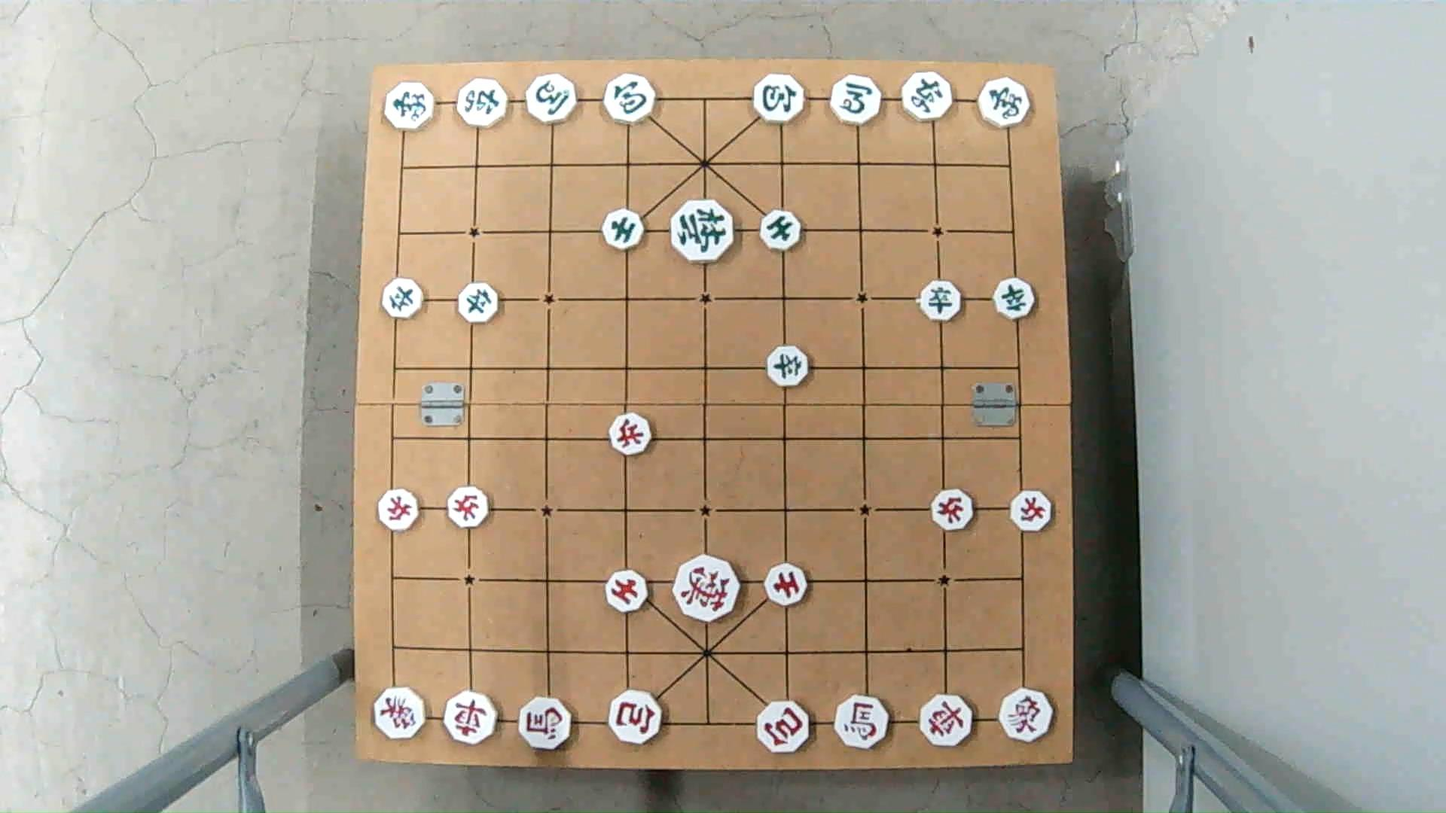cha_green: (455, 79, 511, 126), (903, 75, 959, 120)
cha_red: (442, 693, 502, 743), (917, 693, 974, 743)
jol_green: (990, 279, 1039, 320), (919, 280, 965, 317), (767, 348, 813, 385), (458, 284, 505, 320), (383, 283, 429, 318)
jol_red: (609, 416, 655, 455), (1009, 492, 1057, 528), (929, 491, 975, 528), (378, 491, 424, 528), (447, 489, 494, 525)
ma_green: (523, 76, 580, 121), (827, 79, 883, 123)
ma_red: (518, 698, 574, 747), (834, 699, 891, 747)
po_green: (604, 78, 664, 123), (749, 75, 808, 120)
po_red: (609, 694, 666, 744), (755, 704, 810, 751)
sa_green: (758, 210, 807, 250), (602, 209, 647, 251)
sa_red: (602, 568, 651, 614), (761, 563, 810, 605)
sang_green: (381, 85, 436, 131), (977, 80, 1030, 126)
sang_red: (996, 690, 1058, 739), (375, 690, 428, 738)
wang_green: (670, 202, 739, 257)
wang_red: (675, 556, 744, 620)
